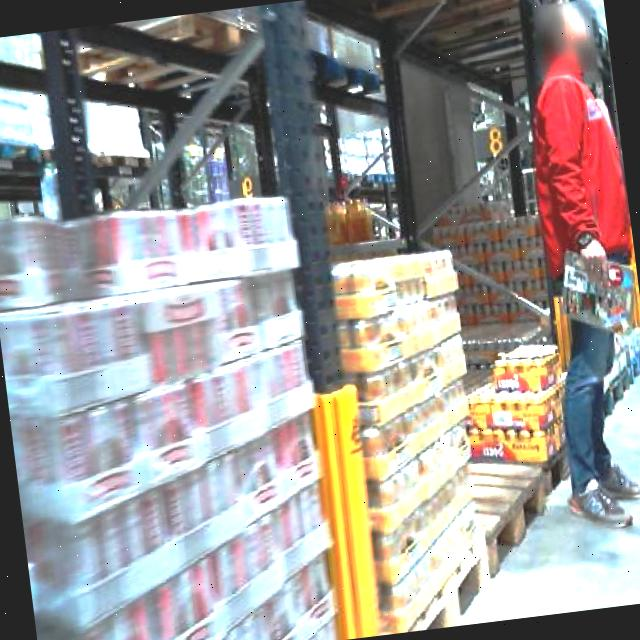ground: (427, 346, 640, 624)
pallet: (0, 182, 351, 640), (326, 241, 501, 634), (362, 447, 568, 633), (422, 191, 560, 367), (465, 447, 561, 578)
